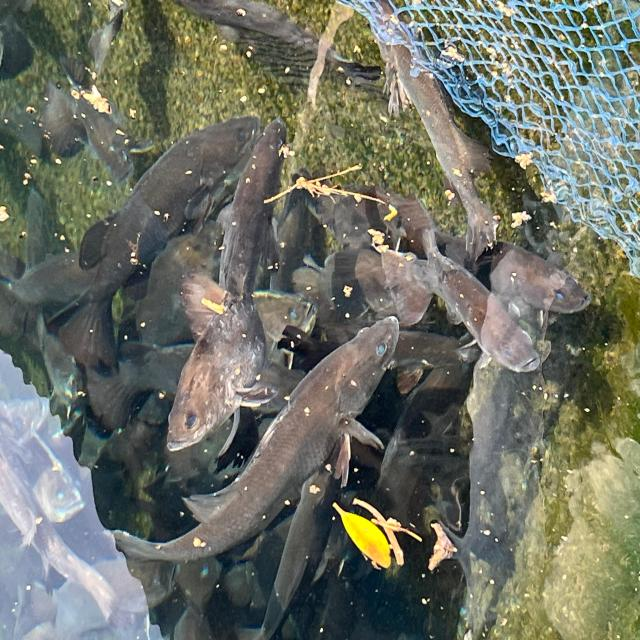ikan: (91, 102, 262, 232), (159, 295, 268, 464), (290, 298, 400, 451)
